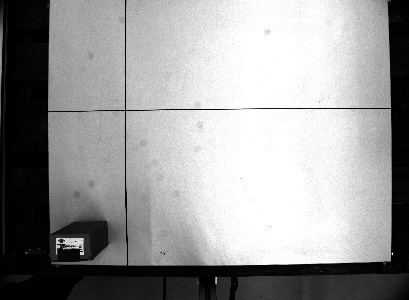b6: (46, 217, 114, 264)
